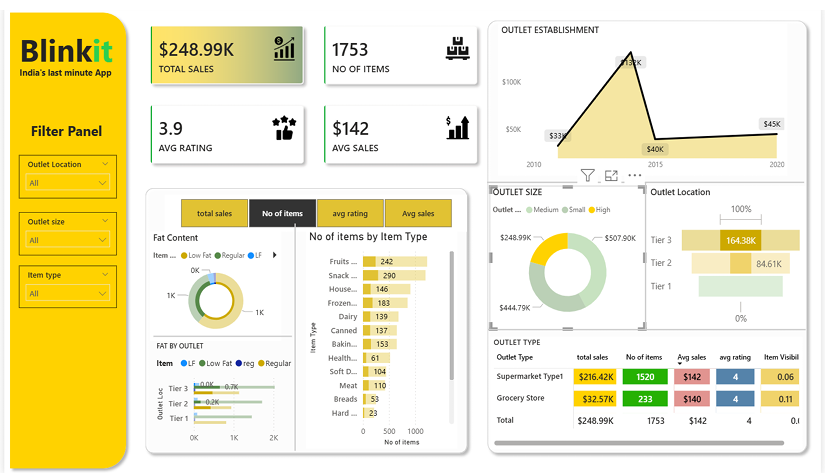

Layout of this report page (visuals, bound fields, positions):
{"tool":"powerbi","page":{"name":"Page 1","canvas":[1280,720],"ordinal":0},"visuals":[{"type":"shape","box":[0,0,200,720],"z":0},{"type":"textbox","box":[18.3,26.7,210,75],"z":1000},{"type":"textbox","box":[18.3,86.7,200,70],"z":2000},{"type":"cardVisual","fields":{"Data":["BlinkIT Grocery Data.total sales","BlinkIT Grocery Data.No of items","BlinkIT Grocery Data.avg rating","BlinkIT Grocery Data.Avg sales"]},"box":[200,0,570,270],"z":3000},{"type":"shape","box":[211.8,270,522.7,426.4],"z":4000},{"type":"donutChart","title":"Fat Content","fields":{"Y":["BlinkIT Grocery Data.total sales"],"Category":["BlinkIT Grocery Data.Item Fat Content"]},"box":[228.6,345.7,205.7,168.6],"z":5000},{"type":"slicer","fields":{"Values":["Metrics.Metrics"]},"box":[251,289,474,57],"z":6000},{"type":"clusteredBarChart","title":"FAT BY OUTLET","fields":{"Y":["BlinkIT Grocery Data.total sales"],"Category":["BlinkIT Grocery Data.Outlet Location Type"],"Series":["BlinkIT Grocery Data.Item Fat Content"]},"box":[233.8,514.9,227,166.2],"z":7000},{"type":"shape","box":[234.3,482.9,217.1,50],"z":8000},{"type":"shape","box":[347.1,334.3,217.1,350],"z":9000},{"type":"barChart","fields":{"Y":["BlinkIT Grocery Data.total sales"],"Category":["BlinkIT Grocery Data.Item Type"]},"box":[472.9,342.9,237.1,337.1],"z":10000},{"type":"shape","box":[748.3,12.1,519,684.5],"z":11000},{"type":"lineChart","title":"OUTLET ESTABLISHMENT","fields":{"Y":["BlinkIT Grocery Data.total sales"],"Category":["BlinkIT Grocery Data.Outlet Establishment Year"]},"box":[774.1,25.9,453.4,234.5],"z":12000},{"type":"shape","box":[757.5,255,497.5,30],"z":13000},{"type":"donutChart","title":"OUTLET SIZE","fields":{"Y":["BlinkIT Grocery Data.total sales"],"Category":["BlinkIT Grocery Data.Outlet Size"]},"box":[761.4,275.7,244.3,221.4],"z":14000},{"type":"shape","box":[898,270,216,228],"z":15000},{"type":"shape","box":[758.3,473.3,498.3,48.3],"z":16000},{"type":"funnel","title":"Outlet Location ","fields":{"Category":["BlinkIT Grocery Data.Outlet Location Type"],"Y":["Sum(BlinkIT Grocery Data.Sales)"]},"box":[1008.6,275.7,248.6,220],"z":17000},{"type":"pivotTable","title":"OUTLET TYPE","fields":{"Rows":["BlinkIT Grocery Data.Outlet Type"],"Values":["BlinkIT Grocery Data.total sales","BlinkIT Grocery Data.No of items","BlinkIT Grocery Data.Avg sales","BlinkIT Grocery Data.avg rating","Avg(BlinkIT Grocery Data.Item Visibility)"]},"box":[762.9,508.6,489,173],"z":18000},{"type":"slicer","fields":{"Values":["BlinkIT Grocery Data.Outlet Size"]},"box":[23.3,228.3,153.3,66.7],"z":19000},{"type":"slicer","fields":{"Values":["BlinkIT Grocery Data.Outlet Location Type"]},"box":[23.3,316.7,153.3,66.7],"z":20000},{"type":"slicer","fields":{"Values":["BlinkIT Grocery Data.Item Type"]},"box":[23.3,398.3,153.3,65],"z":21000},{"type":"textbox","box":[36.7,170,173.3,43.3],"z":22000}]}

Visuals, with their boxes in screenshot pixels (x1, y1, x2, y2), scaled from the page's 1280x720 canvas onto the 825x473 screenshot:
shape: box=[0, 0, 129, 472]
textbox: box=[12, 18, 147, 67]
textbox: box=[12, 57, 141, 103]
cardVisual - BlinkIT Grocery Data.total sales x BlinkIT Grocery Data.No of items: box=[129, 0, 496, 177]
shape: box=[137, 177, 473, 457]
"Fat Content" donutChart: box=[147, 227, 280, 338]
slicer - Metrics.Metrics: box=[162, 190, 467, 227]
"FAT BY OUTLET" clusteredBarChart: box=[151, 338, 297, 447]
shape: box=[151, 317, 291, 350]
shape: box=[224, 220, 364, 450]
barChart - BlinkIT Grocery Data.total sales x BlinkIT Grocery Data.Item Type: box=[305, 225, 458, 447]
shape: box=[482, 8, 817, 458]
"OUTLET ESTABLISHMENT" lineChart: box=[499, 17, 791, 171]
shape: box=[488, 168, 809, 187]
"OUTLET SIZE" donutChart: box=[491, 181, 648, 327]
shape: box=[579, 177, 718, 327]
shape: box=[489, 311, 810, 343]
"Outlet Location " funnel: box=[650, 181, 810, 326]
"OUTLET TYPE" pivotTable: box=[492, 334, 807, 448]
slicer - BlinkIT Grocery Data.Outlet Size: box=[15, 150, 114, 194]
slicer - BlinkIT Grocery Data.Outlet Location Type: box=[15, 208, 114, 252]
slicer - BlinkIT Grocery Data.Item Type: box=[15, 262, 114, 304]
textbox: box=[24, 112, 135, 140]
